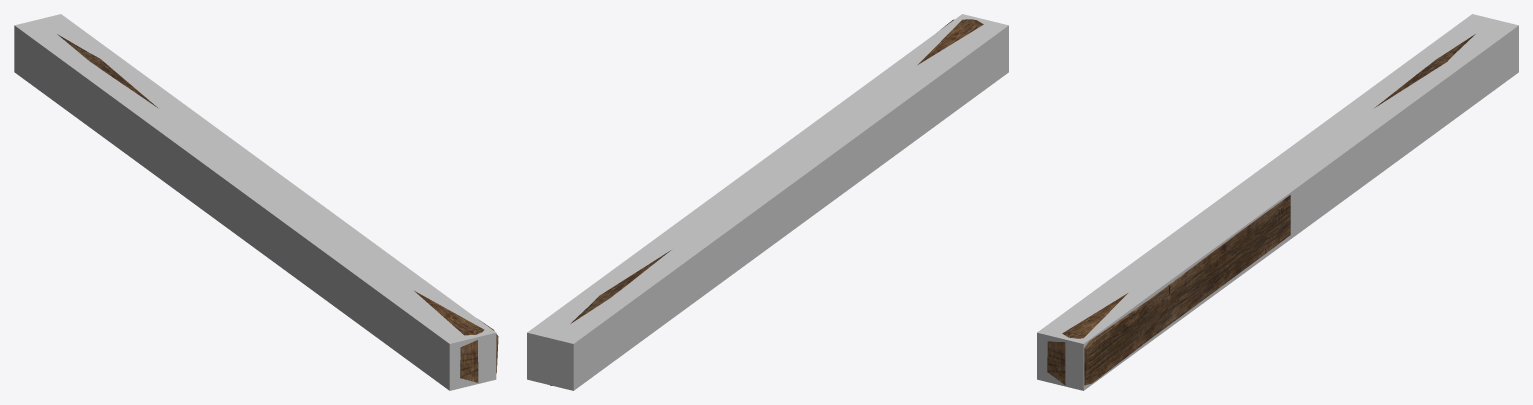
Rendered from SM_Beam.fbx.
The picture shows the model from 3 angles, left to right: view 1: azimuth 30°, elevation 25°; view 2: azimuth 150°, elevation 25°; view 3: azimuth 330°, elevation 25°; orthographic projection.
Visible parts, largest first — view 1: SM_Beam_ConvexHulls, SM_Beam; view 2: SM_Beam_ConvexHulls, SM_Beam; view 3: SM_Beam_ConvexHulls, SM_Beam.
Part boxes in pixels (left/top/right/bottom): SM_Beam_ConvexHulls: left=14, top=14, right=496, bottom=390; SM_Beam: left=57, top=34, right=498, bottom=382; SM_Beam_ConvexHulls: left=527, top=14, right=1008, bottom=390; SM_Beam: left=550, top=19, right=983, bottom=385; SM_Beam_ConvexHulls: left=1037, top=14, right=1518, bottom=390; SM_Beam: left=1047, top=34, right=1475, bottom=385.
Bounding box in the file's own units: 24.09 × 364 × 23.33.
2 materials, 1 textured.
